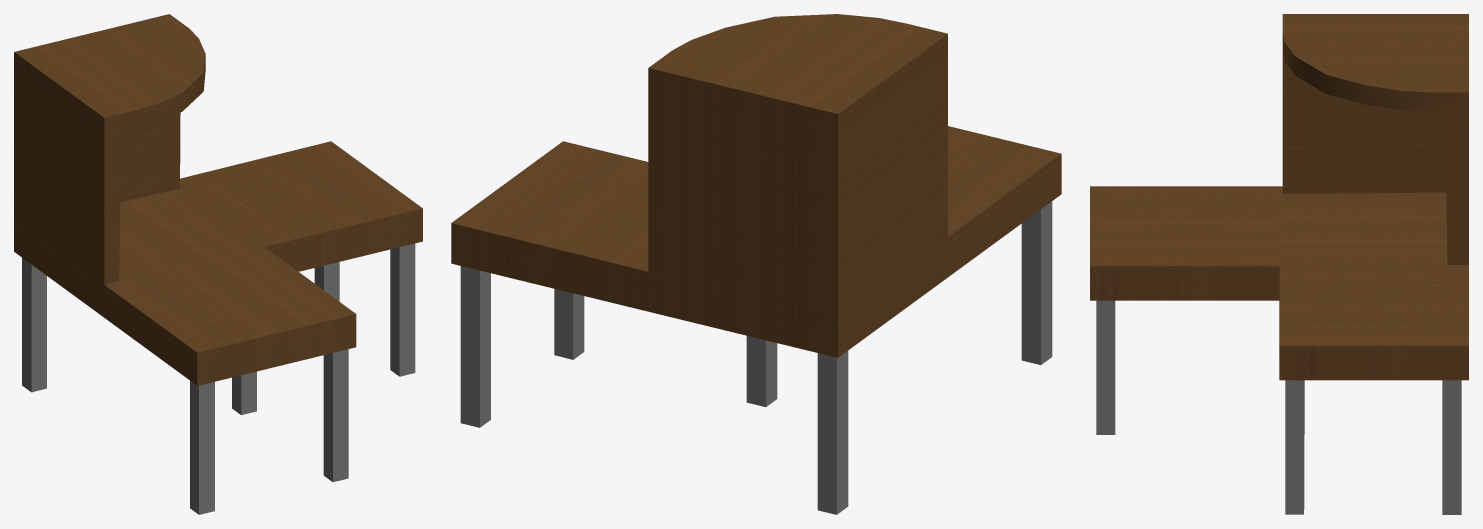
File: teto.fbx
The picture shows the model from 3 angles, left to right: view 1: azimuth 30°, elevation 25°; view 2: azimuth 150°, elevation 25°; view 3: azimuth 270°, elevation 25°; orthographic projection. The views are drawn at different scales.
Visible parts, largest first — view 1: pCube31; view 2: pCube31; view 3: pCube31.
Boxes of the visible parts, x1=… form: pCube31: x1=14, y1=14, x2=422, y2=514; pCube31: x1=451, y1=14, x2=1061, y2=514; pCube31: x1=1090, y1=14, x2=1468, y2=514.
Size of the model in its own units: 2 by 2 by 2.
1 material, 1 textured.
